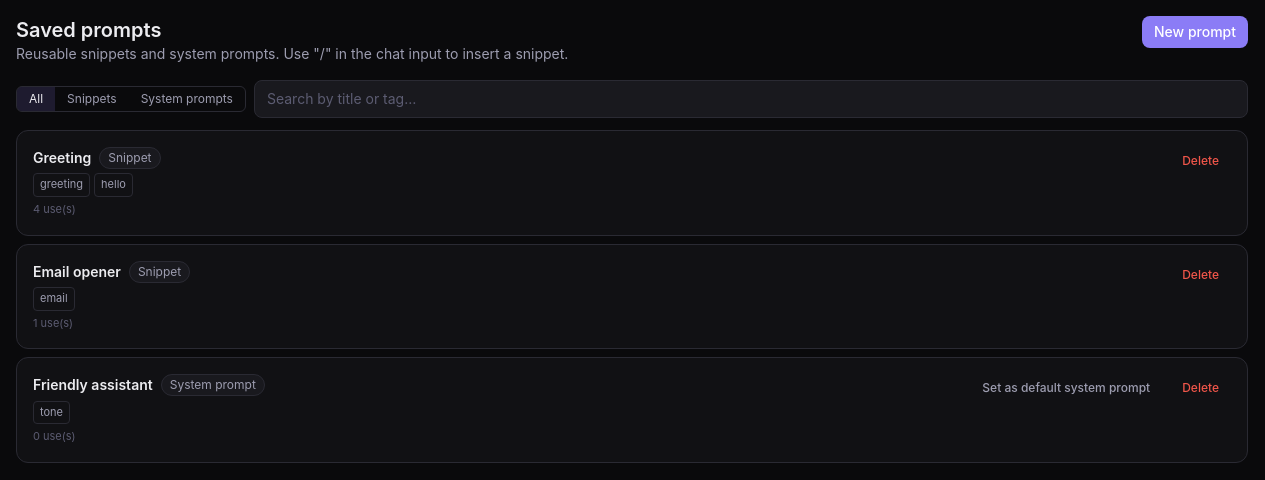
Scenario: PromptLibraryPanel filter by kind › snippets filter hides system_prompt rows
The width and height of the screenshot is (1265, 480).
Expected: the list item with test id "prompt-row-snip-a" is shown, x1=16 y1=130 x2=1248 y2=236
Click the button with test id "prompt-filter-snippet": {"x": 92, "y": 99} x1=55 y1=87 x2=129 y2=111
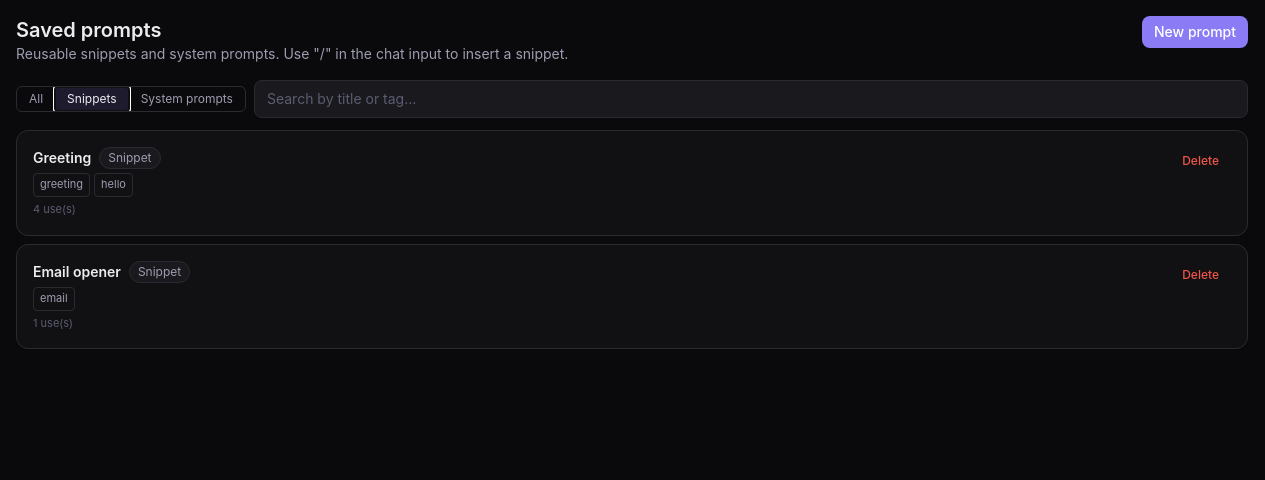
Expected: the list item with test id "prompt-row-snip-a" is shown, x1=16 y1=130 x2=1248 y2=236
Now the list item with test id "prompt-row-sys-a" is gone
